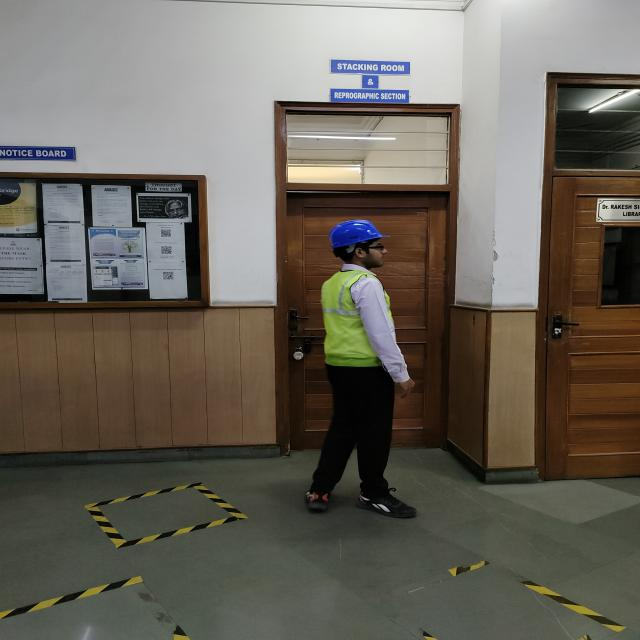safe: (321, 220, 399, 512)
